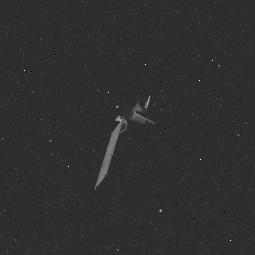earth_observation_sat_1: (103, 88, 165, 150)
